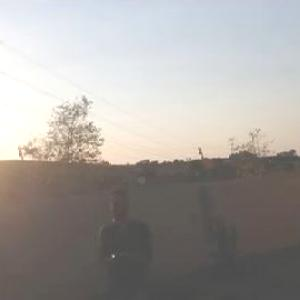follow: (99, 179, 164, 299)
